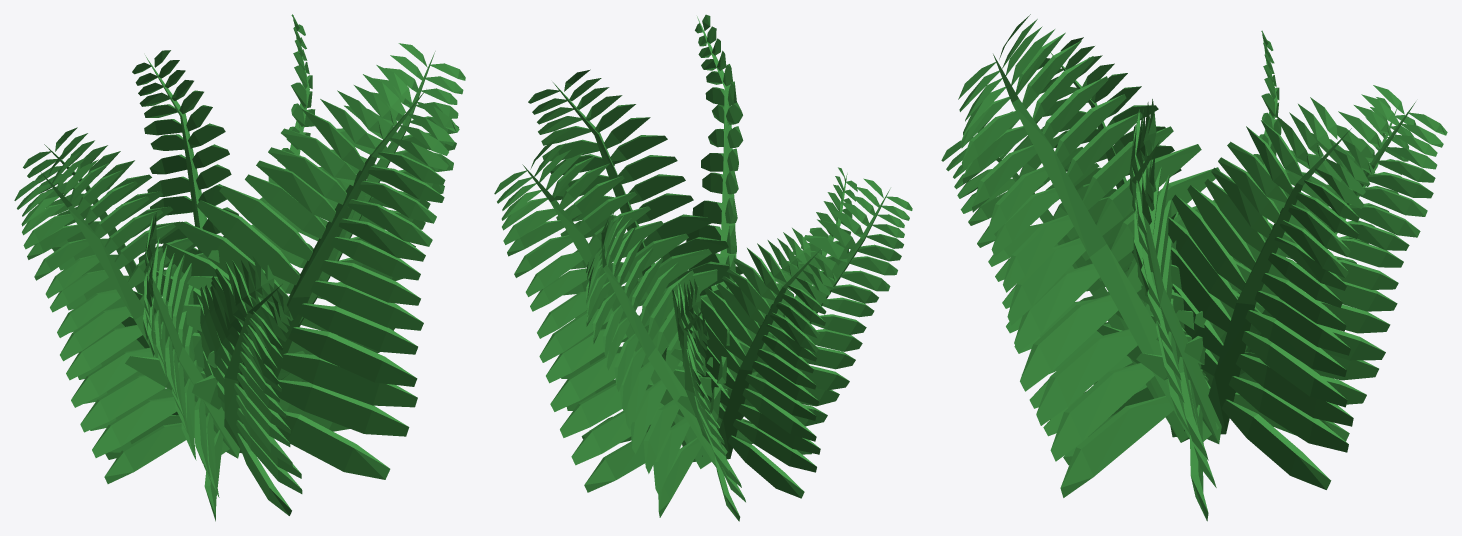
File: fern-clump.glb
3 views of the same model, side by side, from view 1: azimuth 30°, elevation 25°; view 2: azimuth 150°, elevation 25°; view 3: azimuth 270°, elevation 25° (orthographic). The views are drawn at different scales.
Parts seen in each view (by area): view 1: plant; view 2: plant; view 3: plant.
Part boxes in pixels (x1,y1,x2,y2): plant: (14,14,465,521); plant: (494,14,912,521); plant: (941,14,1447,521).
Size of the model in its own units: 3.53 by 3.78 by 3.55.
